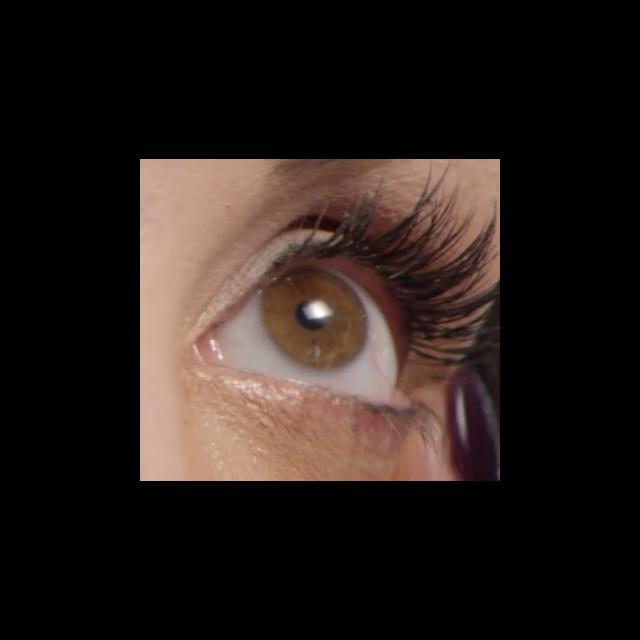eye: (223, 262, 398, 403)
iris: (264, 264, 368, 370)
